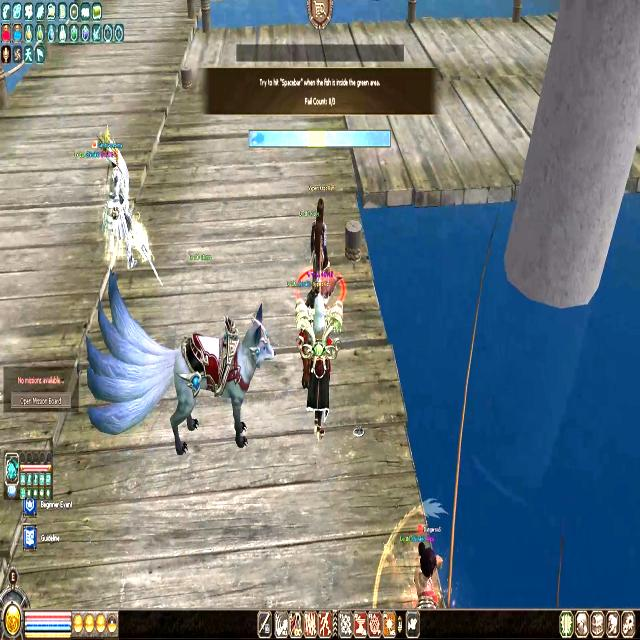fishes: (252, 128, 266, 147)
